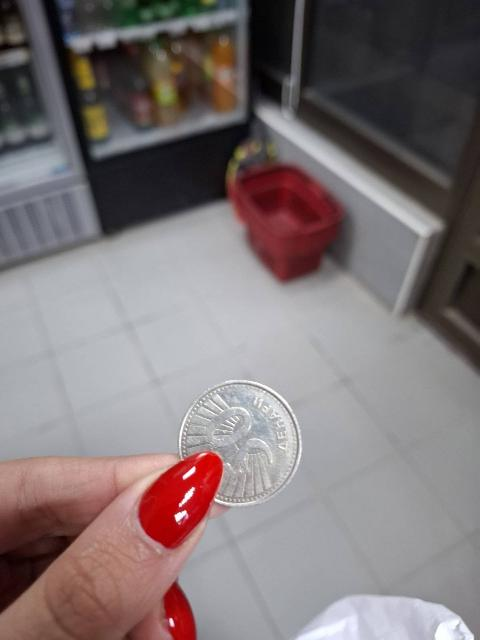coin: (183, 384, 302, 502)
